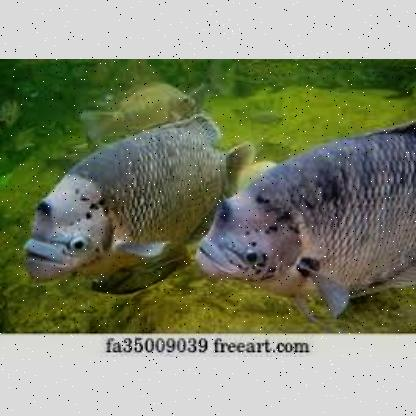gurame: (196, 122, 412, 312), (25, 119, 244, 279)
